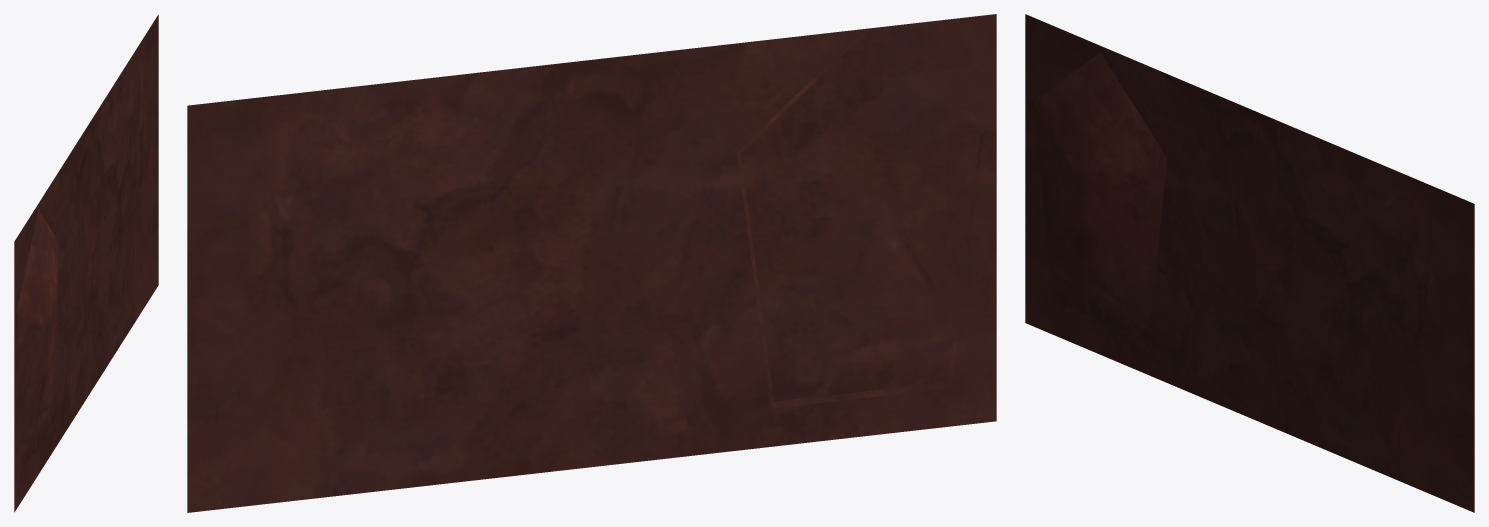
Rendered from lava_half_diagonal_02.fbx.
The picture shows the model from 3 angles, left to right: view 1: azimuth 30°, elevation 25°; view 2: azimuth 150°, elevation 25°; view 3: azimuth 270°, elevation 25°; orthographic projection. The views are drawn at different scales.
Visible parts, largest first — view 1: lava_half_diagonal_02-0; view 2: lava_half_diagonal_02-0; view 3: lava_half_diagonal_02-0.
Part boxes in pixels (x1,y1,x2,y2): lava_half_diagonal_02-0: (14, 14, 158, 512); lava_half_diagonal_02-0: (187, 14, 996, 512); lava_half_diagonal_02-0: (1025, 14, 1474, 512).
Size of the model in its own units: 3.62 by 2.75 by 3.62.
